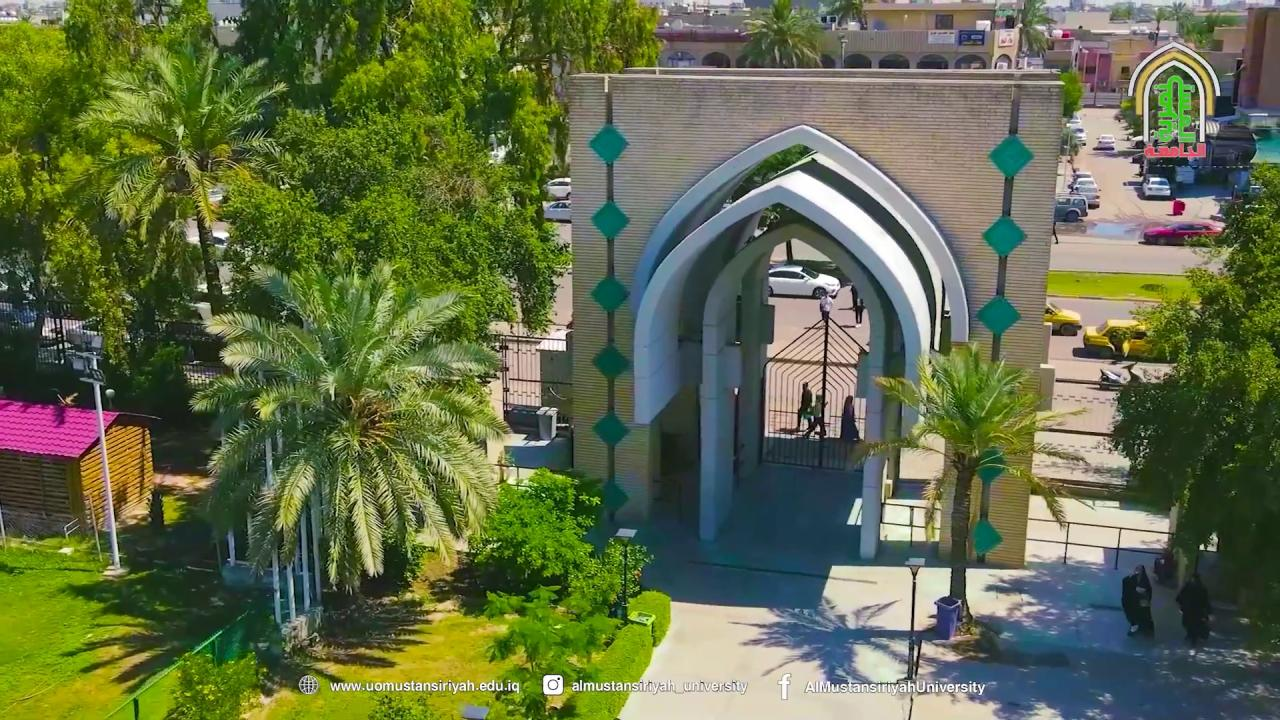car: (1083, 301, 1202, 360), (1083, 317, 1156, 358), (766, 265, 840, 299), (1141, 220, 1226, 245), (1044, 299, 1081, 336), (1054, 194, 1088, 222), (1071, 180, 1100, 209), (1098, 367, 1132, 388), (1142, 176, 1171, 200), (542, 199, 571, 221), (543, 176, 571, 198), (1067, 125, 1087, 145), (1093, 134, 1116, 151), (1248, 183, 1266, 198), (1130, 136, 1145, 150)
person: (1174, 572, 1212, 645), (1121, 564, 1153, 636), (802, 394, 829, 439), (792, 381, 813, 431), (839, 395, 860, 442), (818, 290, 832, 322), (854, 298, 865, 326)
tree: (170, 261, 494, 606), (1105, 158, 1279, 653), (847, 340, 1091, 633), (73, 41, 288, 319), (0, 13, 131, 369), (723, 142, 819, 236), (739, 0, 824, 68), (1152, 76, 1196, 150), (1013, 0, 1057, 67), (1058, 67, 1084, 120), (817, 0, 866, 28), (1165, 1, 1193, 39), (1150, 5, 1168, 47)
